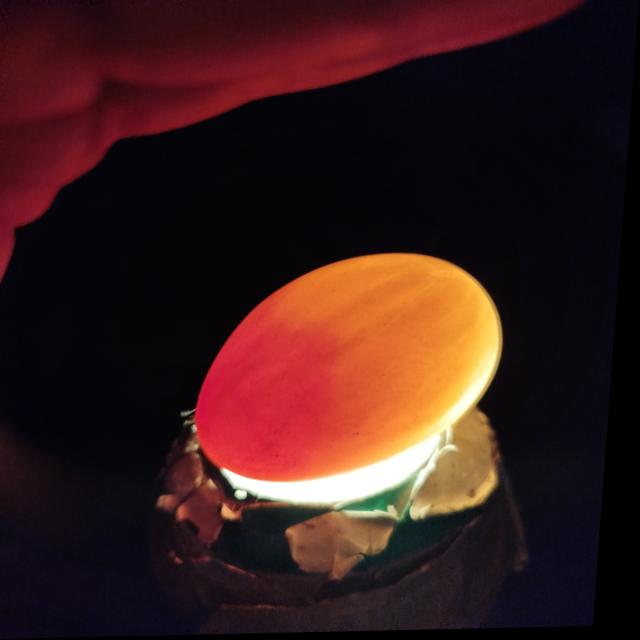Gema Quebrada: (200, 293, 358, 484)
